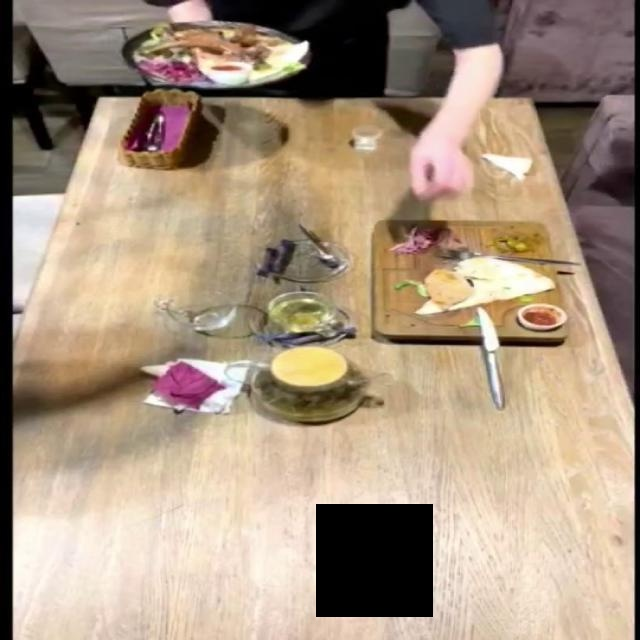meat: (365, 216, 570, 347), (117, 9, 292, 116)
tea: (226, 348, 385, 417)
